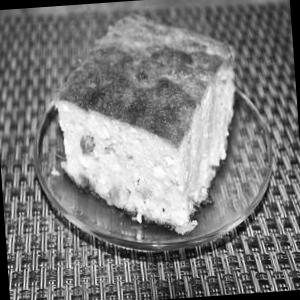omelet: (18, 6, 272, 244)
